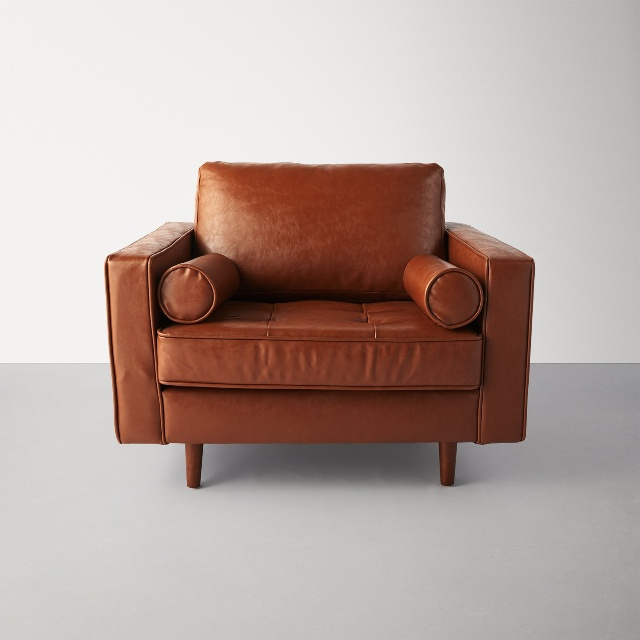obstacle: (106, 162, 534, 487)
